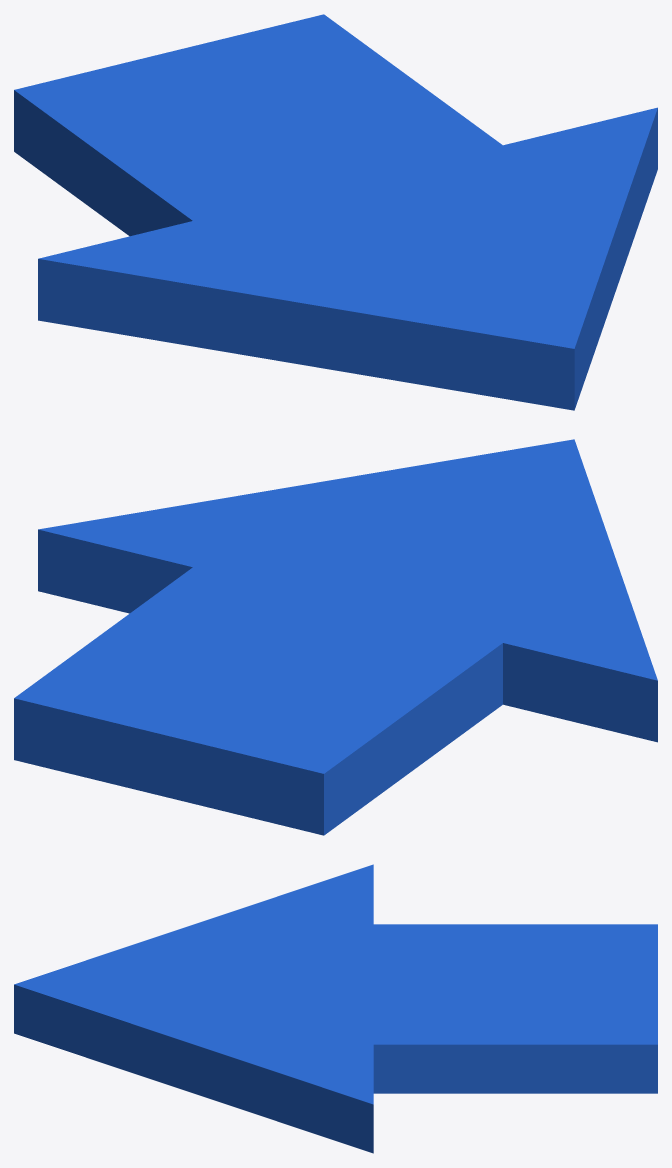
File: nav_arrow.glb
3 views of the same model, one above another, from view 1: azimuth 30°, elevation 25°; view 2: azimuth 150°, elevation 25°; view 3: azimuth 270°, elevation 25° (orthographic). The views are drawn at different scales.
Visible parts, largest first — view 1: Cube; view 2: Cube; view 3: Cube.
Part boxes in pixels (box(x1,y1,x2,y2)): Cube: box(14, 14, 657, 410); Cube: box(14, 439, 657, 835); Cube: box(14, 864, 657, 1153).
Size of the model in its own units: 0.5255 by 0.05 by 0.5953.
